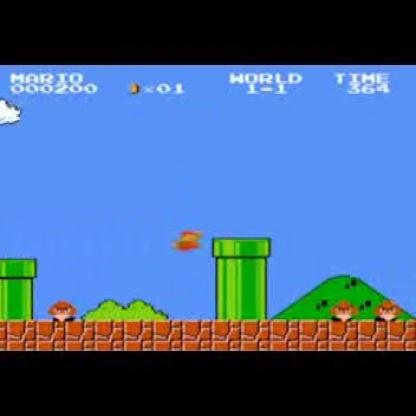Goomba: (375, 295, 402, 324), (330, 296, 360, 322), (49, 299, 76, 323)
